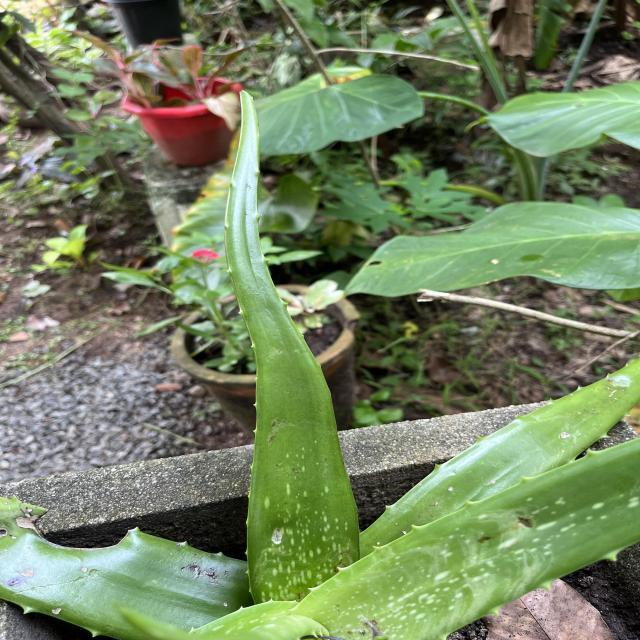Aloe vera: (220, 86, 370, 589)
